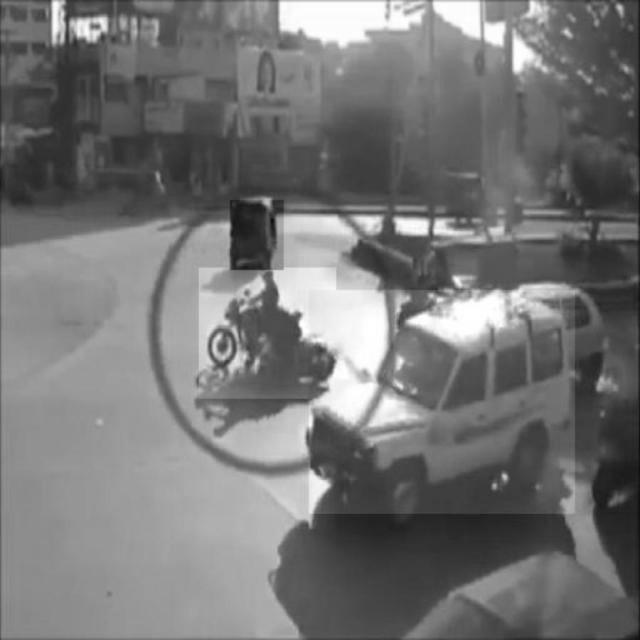accident: (200, 268, 337, 399)
vehicle: (309, 290, 575, 514), (230, 200, 284, 270)
